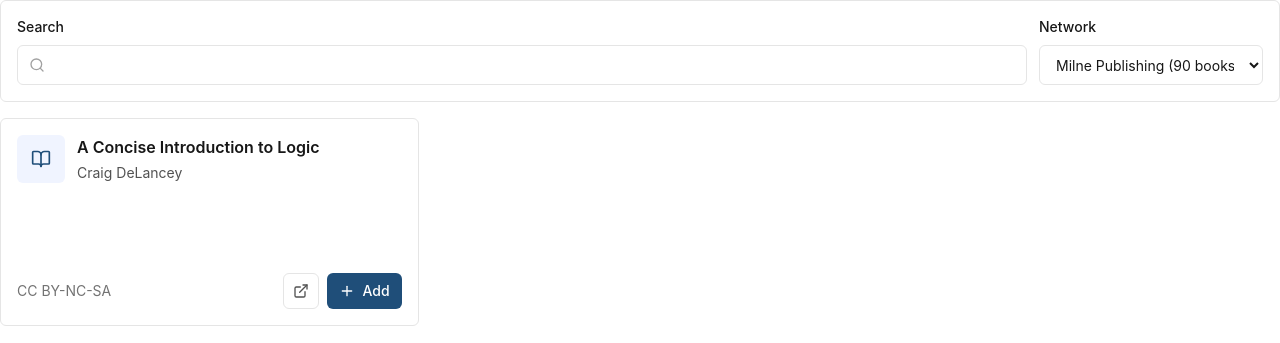
Scenario: PressbooksBrowser › search › says a search matched nothing, distinctly from a catalog with no books
Expected: the heading "A Concise Introduction to Logic" is shown, 77,135 -> 320,159
Type "thermodynamics" into the field labelled "Search" at (522, 65), box 17,45 -> 1027,85
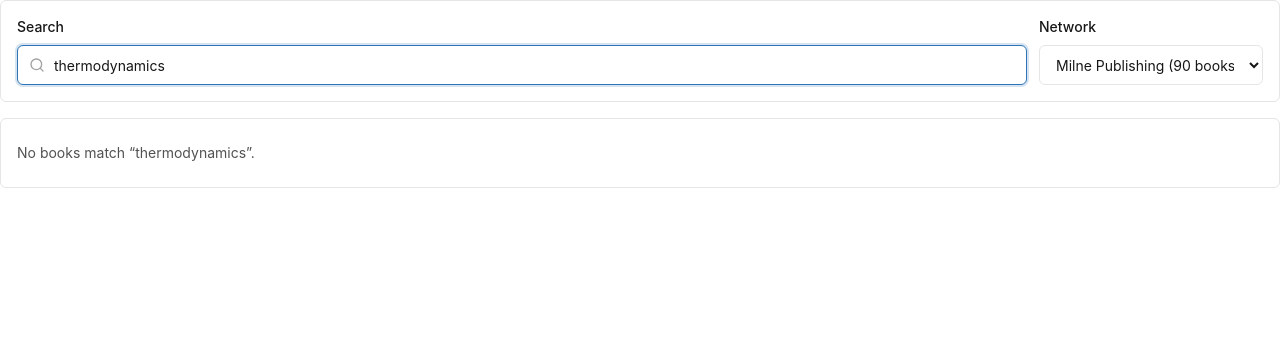
Now the text "No books match “thermodynamics”." is shown, box 0,118 -> 1279,188
